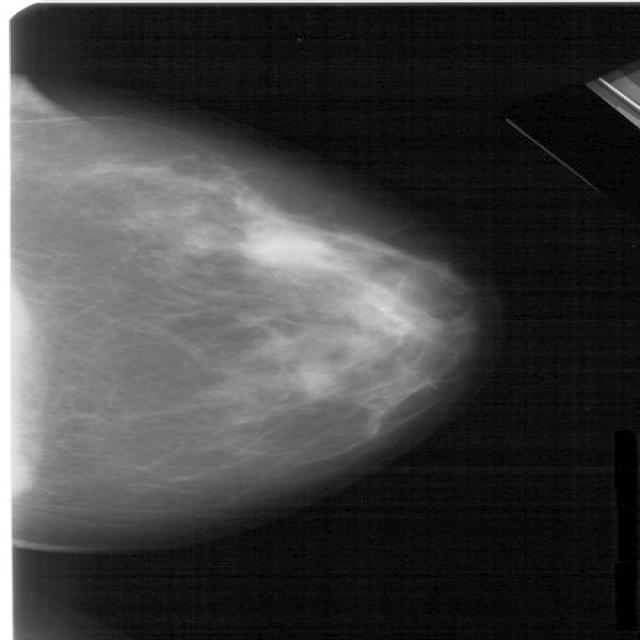tumour: (242, 223, 352, 276)
